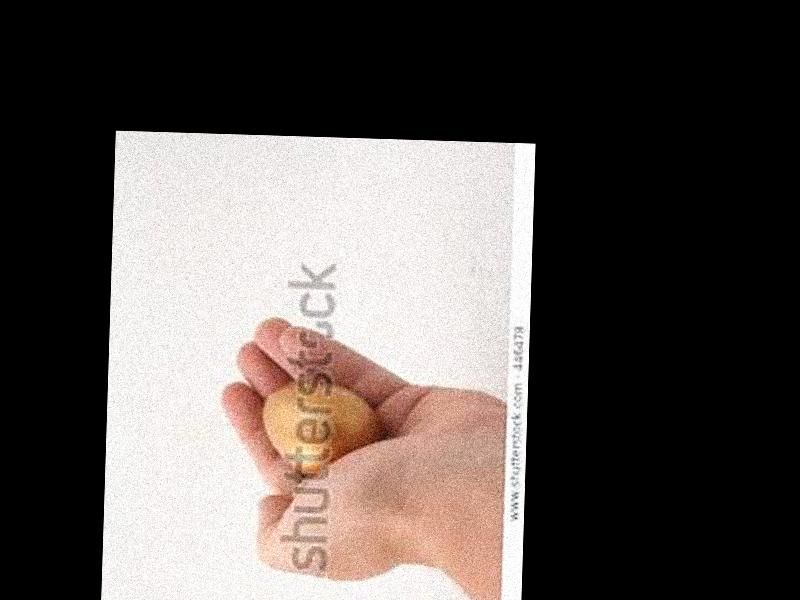Eggs: (262, 381, 378, 472)
